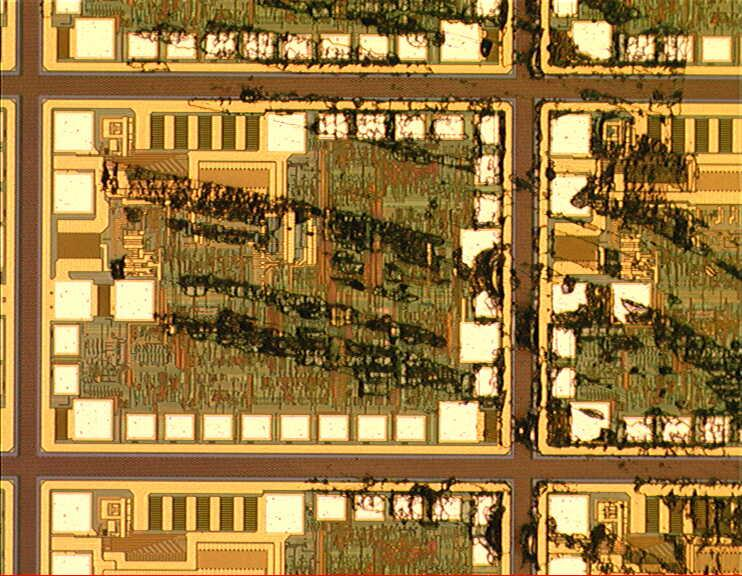SCRATCH: (63, 1, 742, 576)
